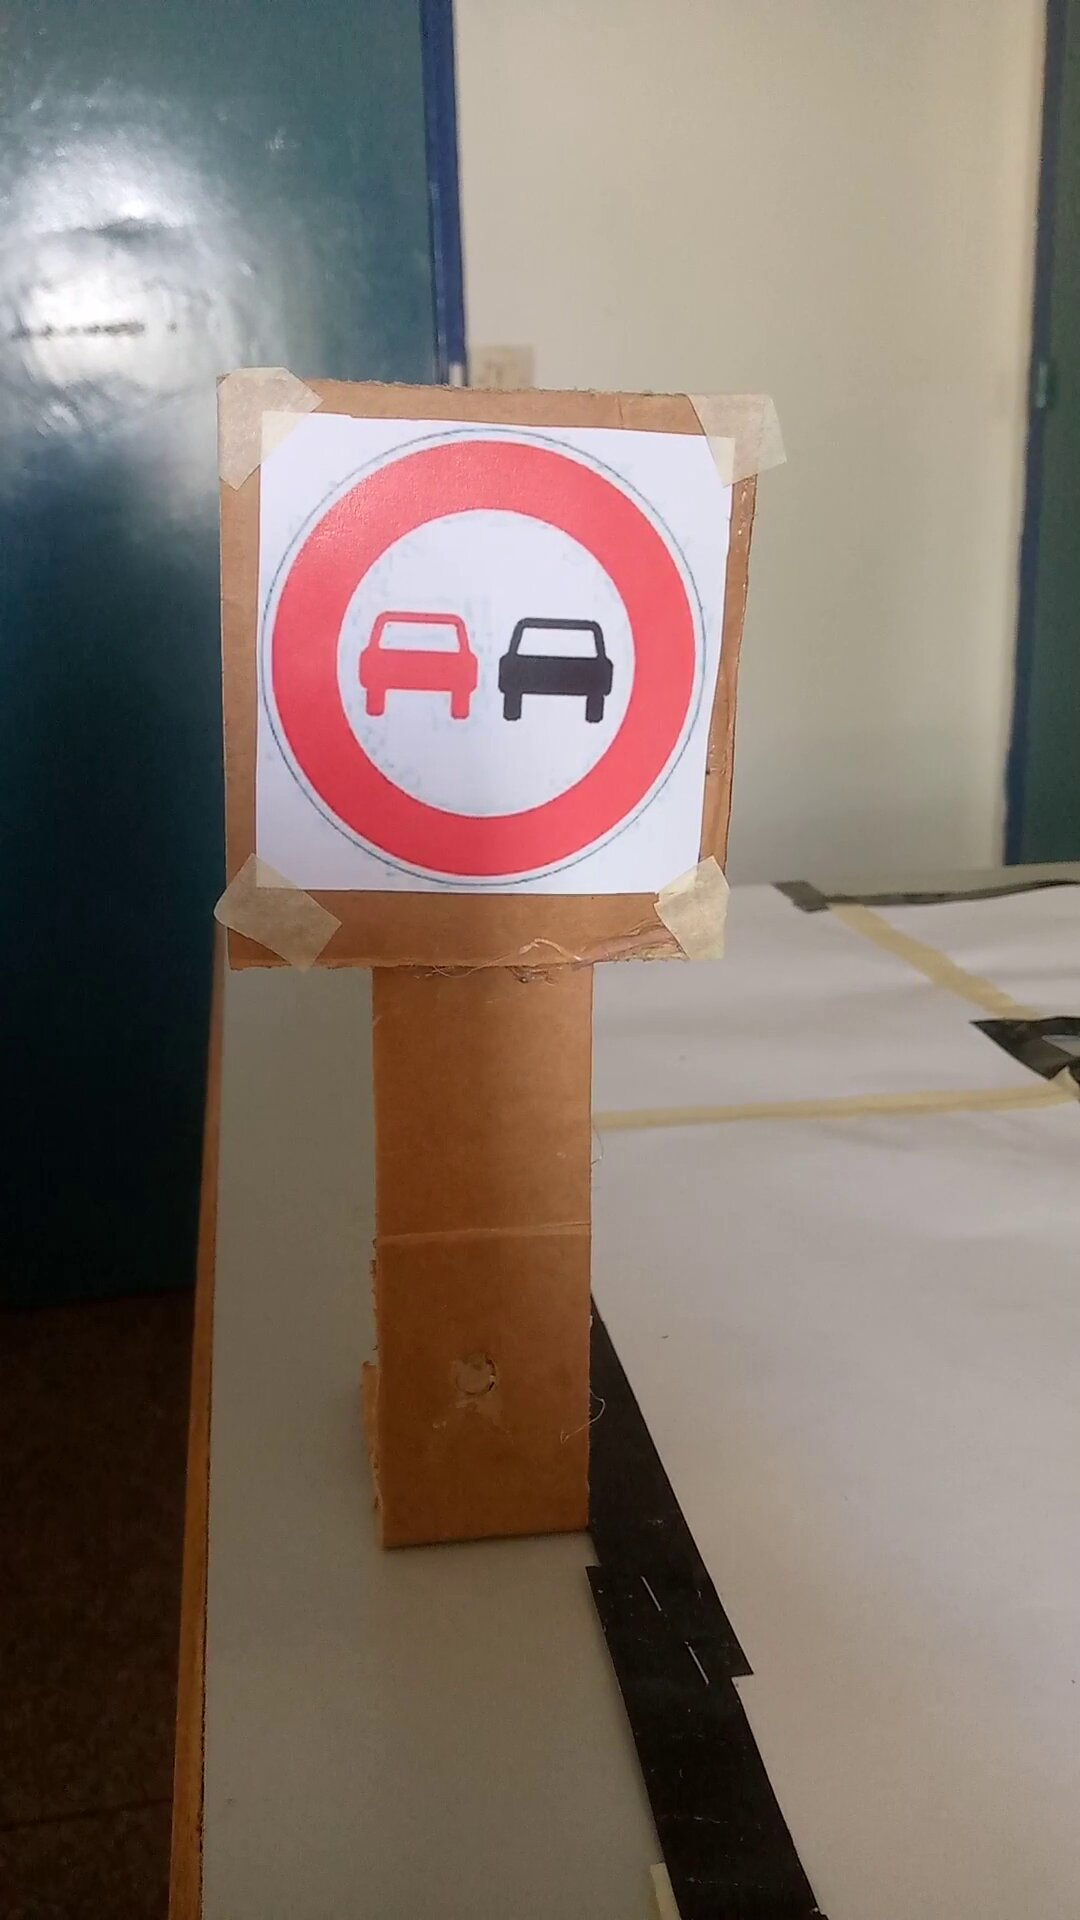panel100: (258, 409, 709, 899)
